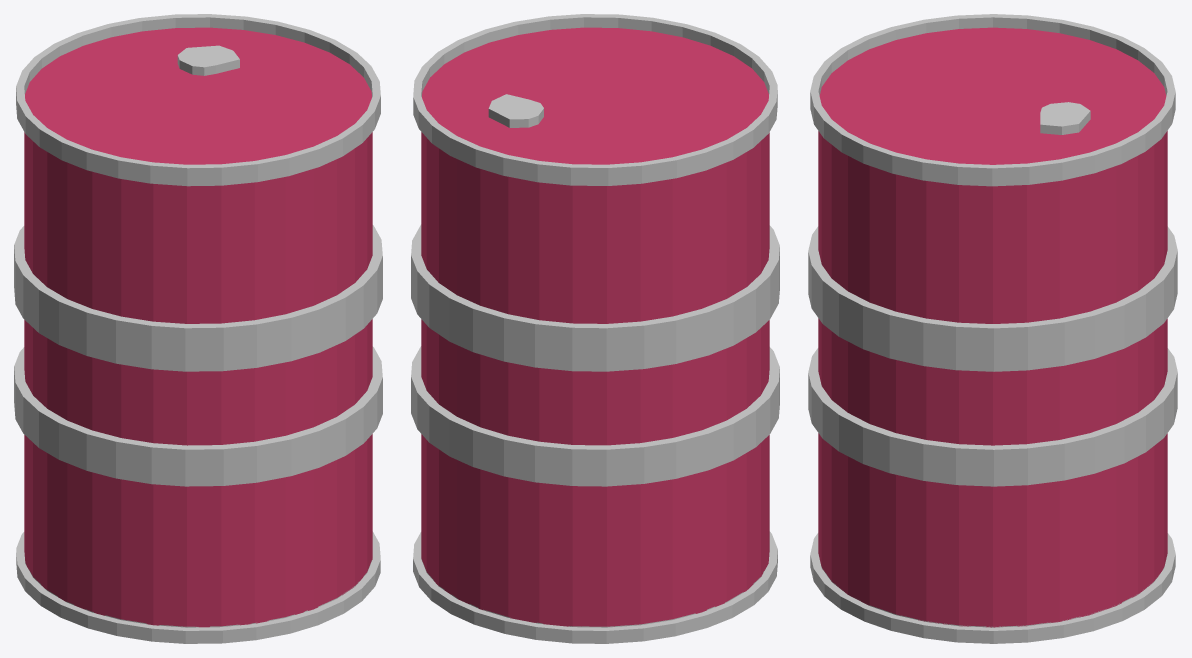
Rendered from ドラム缶 ピンク.fbx.
3 views of the same model, side by side, from view 1: azimuth 30°, elevation 25°; view 2: azimuth 150°, elevation 25°; view 3: azimuth 270°, elevation 25° (orthographic).
Parts seen in each view (by area): view 1: Cylinder; view 2: Cylinder; view 3: Cylinder.
Boxes of the visible parts, bbox=[...] form: Cylinder: bbox=[14, 14, 382, 643]; Cylinder: bbox=[411, 14, 779, 643]; Cylinder: bbox=[808, 14, 1177, 643].
Bounding box in the file's own units: 212 × 301 × 212.
